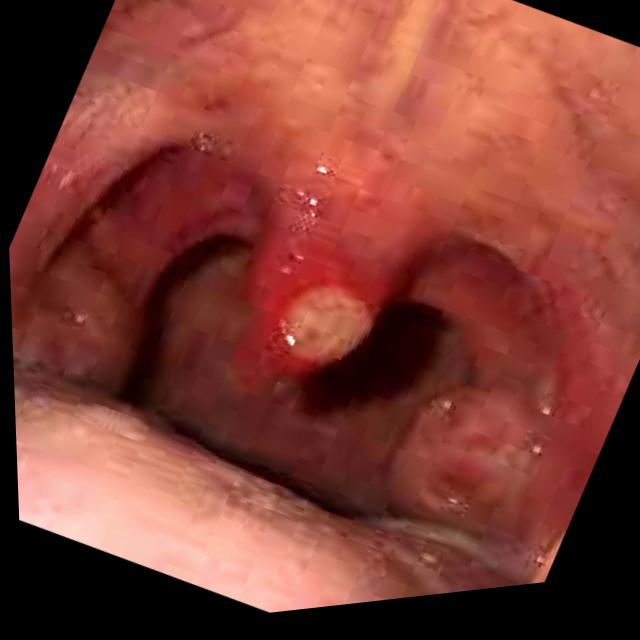ulcer: (281, 284, 371, 363)
